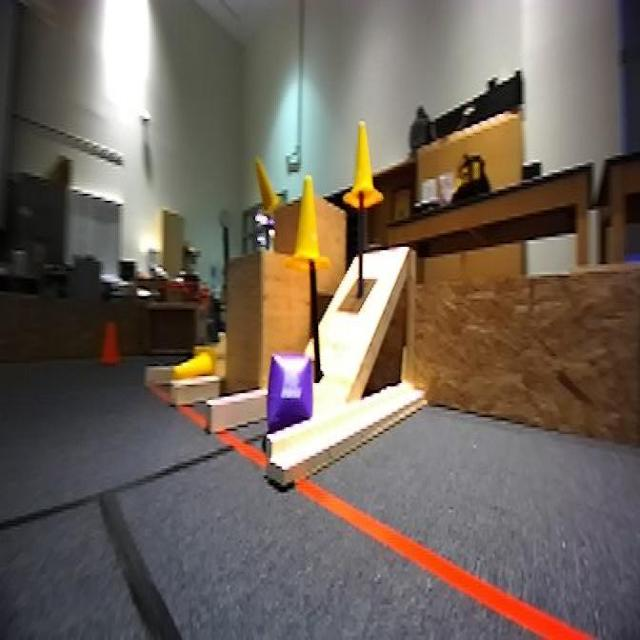frc_cone: (286, 170, 331, 274), (343, 119, 383, 211), (172, 344, 218, 385), (254, 153, 282, 216)
frc_cube: (267, 351, 313, 434)
